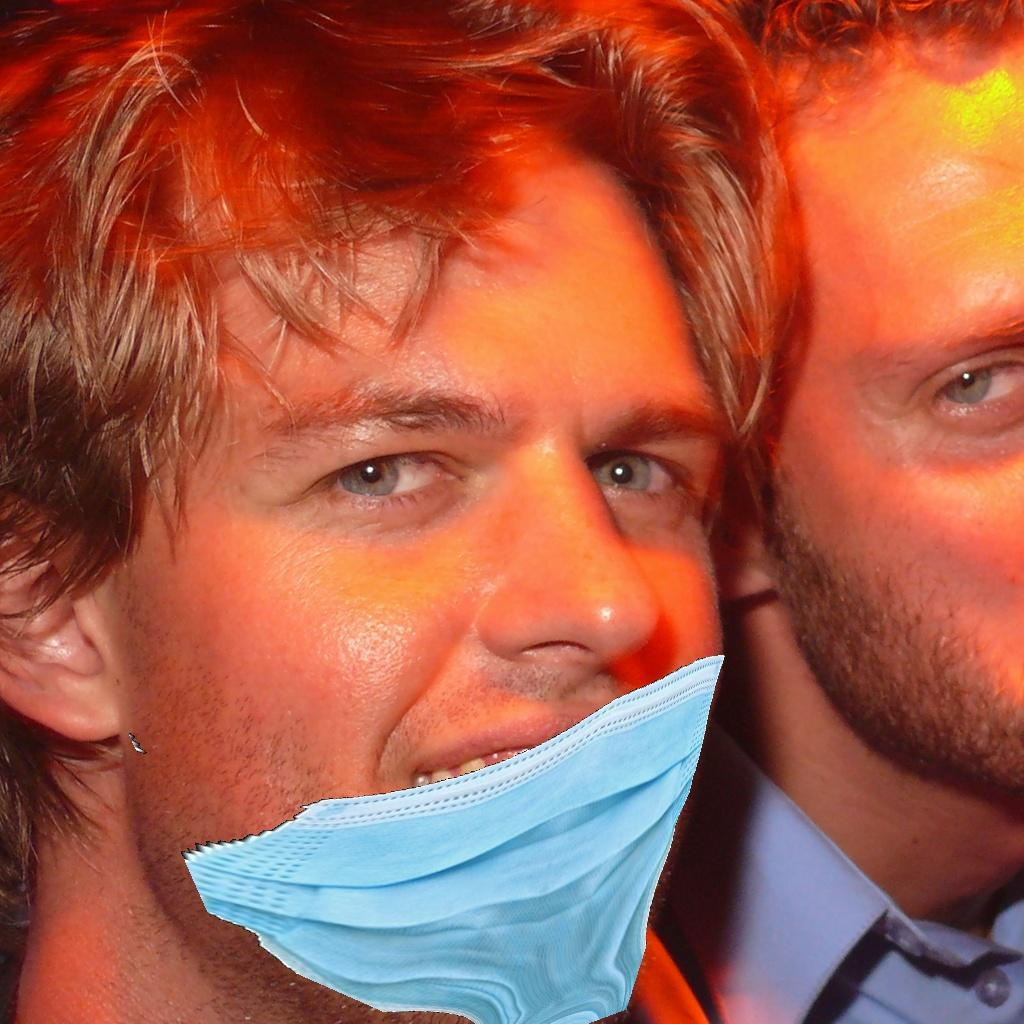Máscara Incorreta: (142, 290, 733, 998)
